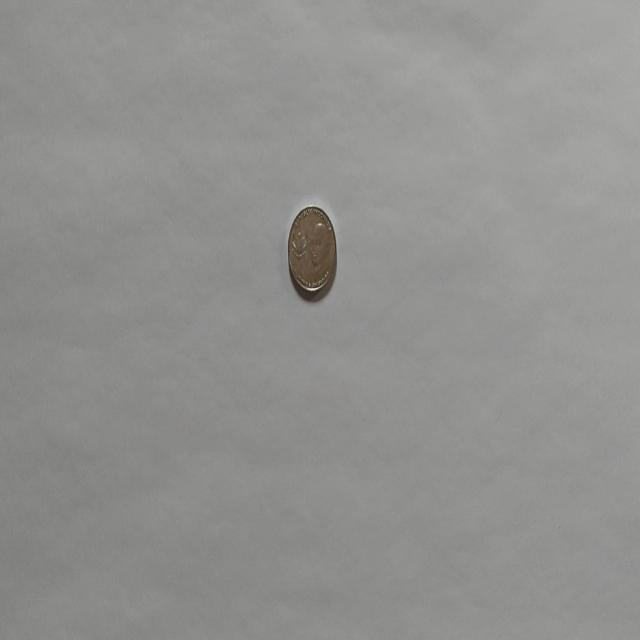lima ratus rupiah: (286, 203, 338, 297)
